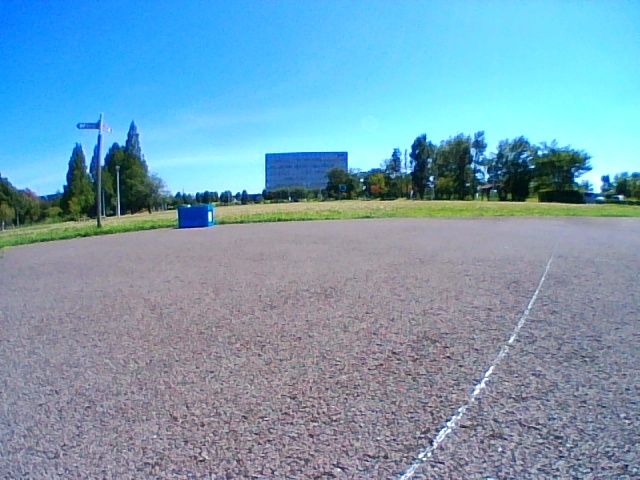blue_box: (179, 205, 212, 226)
tag: (208, 210, 213, 221)
